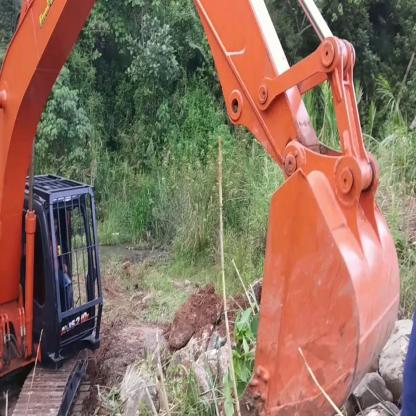bull_dozer/loader/grader: (47, 12, 395, 409)
